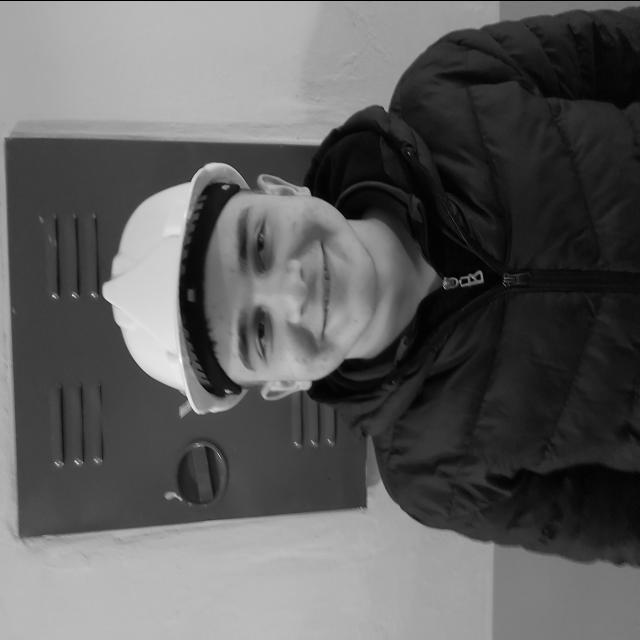safety_helmet: (107, 160, 252, 414)
